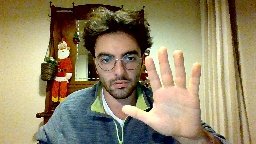Mano_aperta: (119, 45, 204, 140)
